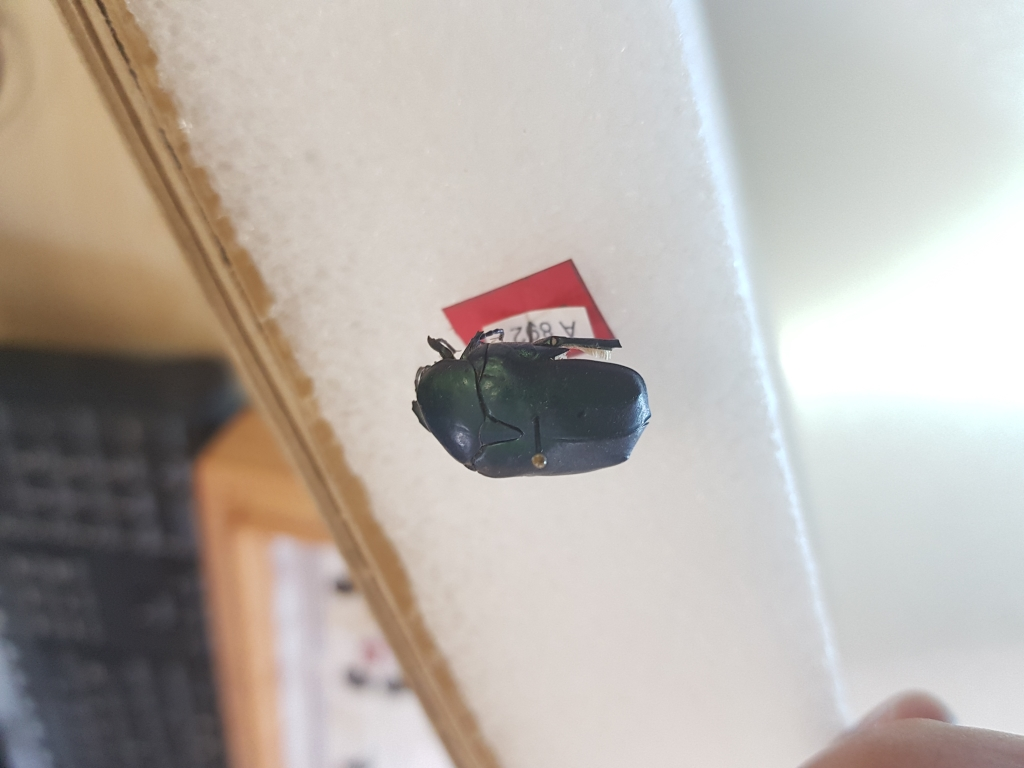Protaetia_afflicta: (406, 324, 654, 487)
